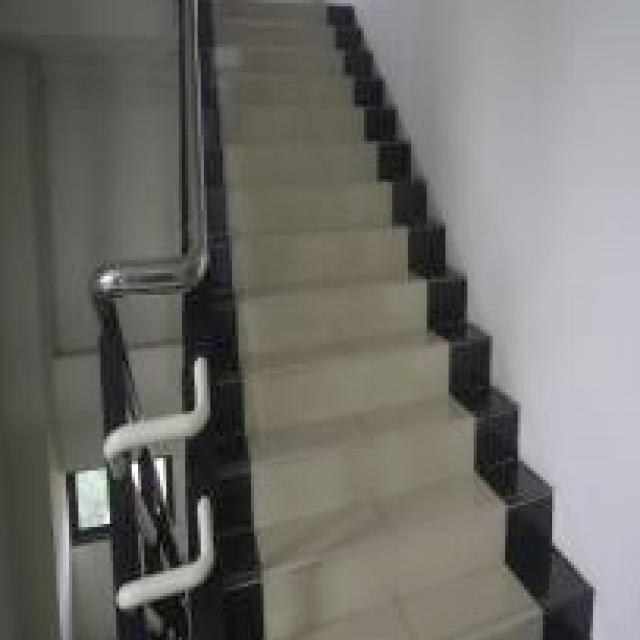upstair: (199, 45, 538, 640)
